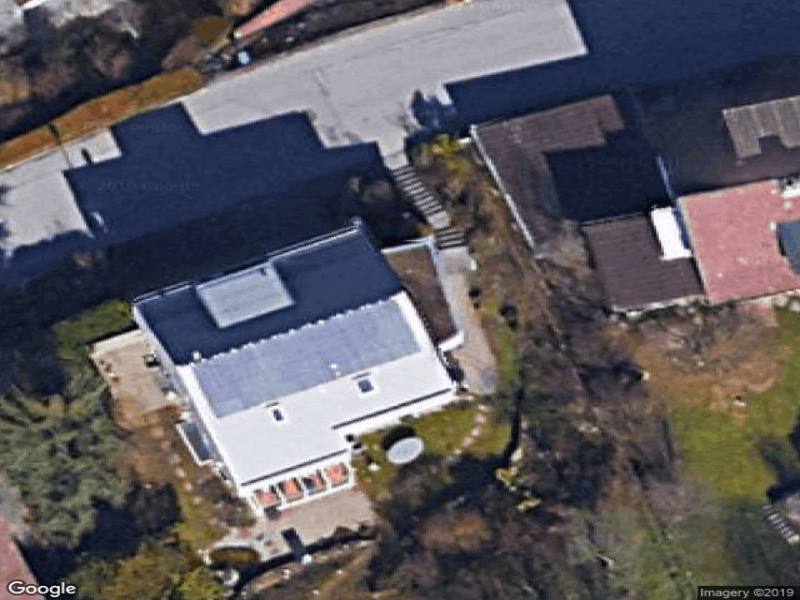pv: (146, 235, 422, 419)
